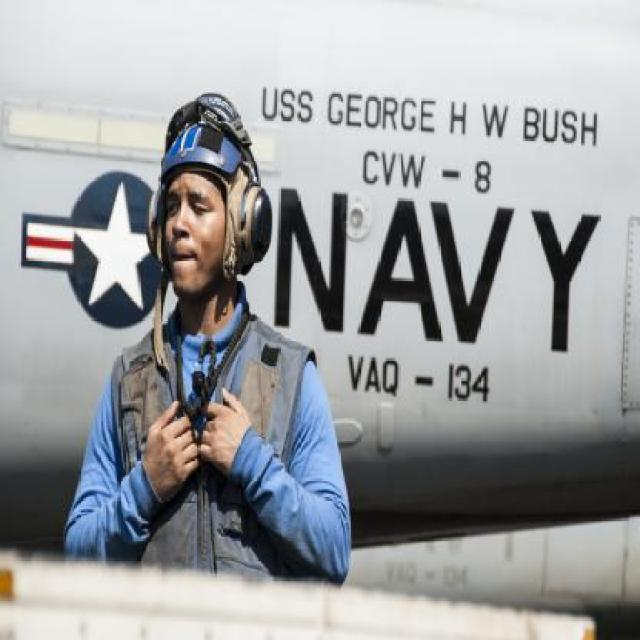earphone: (150, 90, 323, 263)
